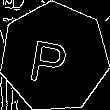P_N: (32, 29, 77, 85)
